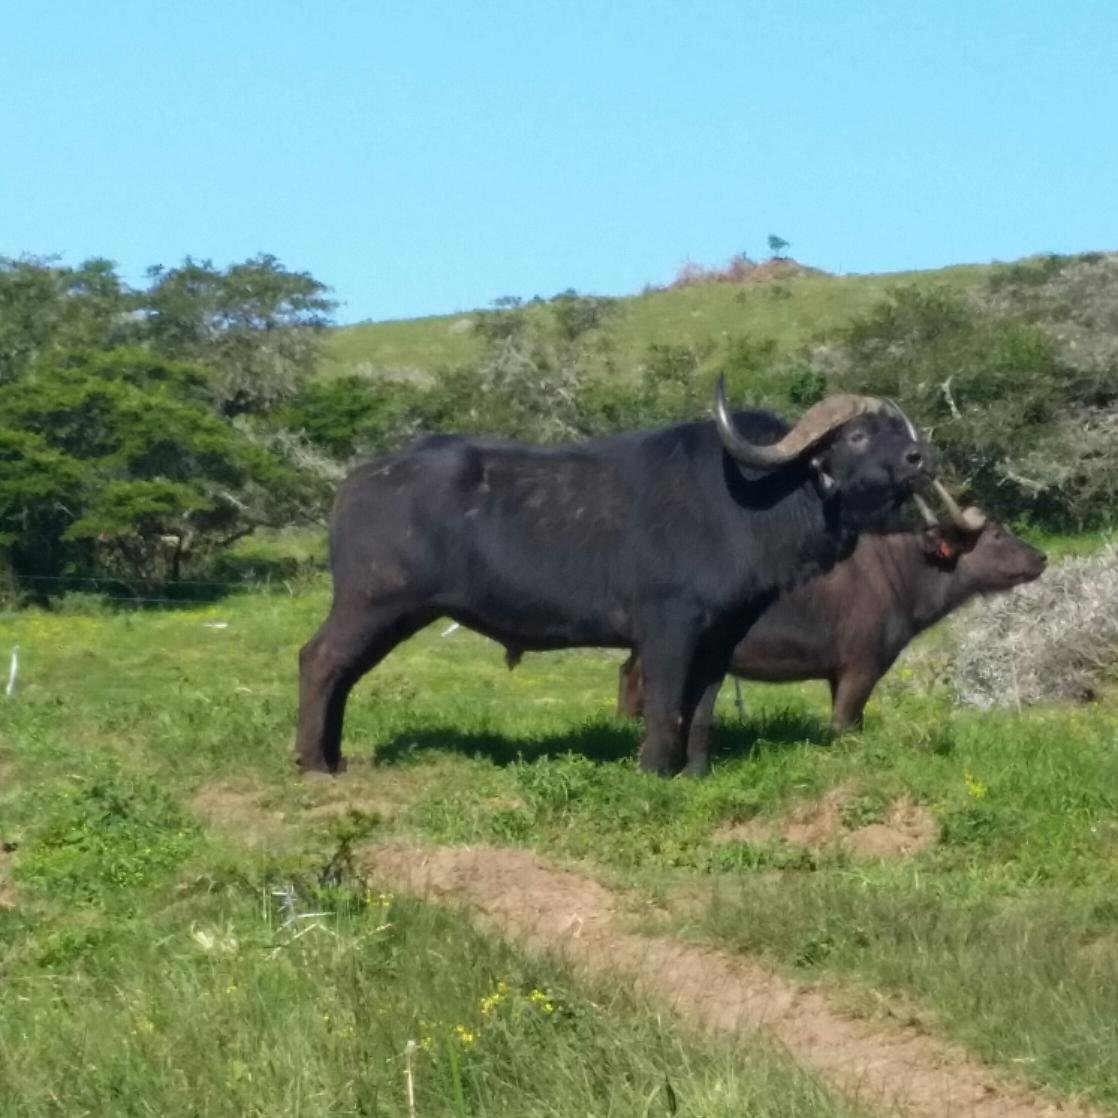buffalo: (297, 365, 931, 783), (724, 480, 1049, 742)
